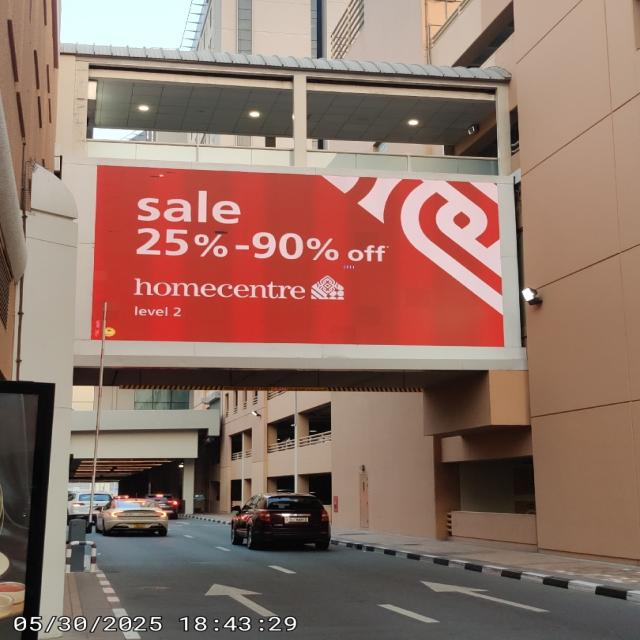digital-board-big: (92, 166, 506, 352)
